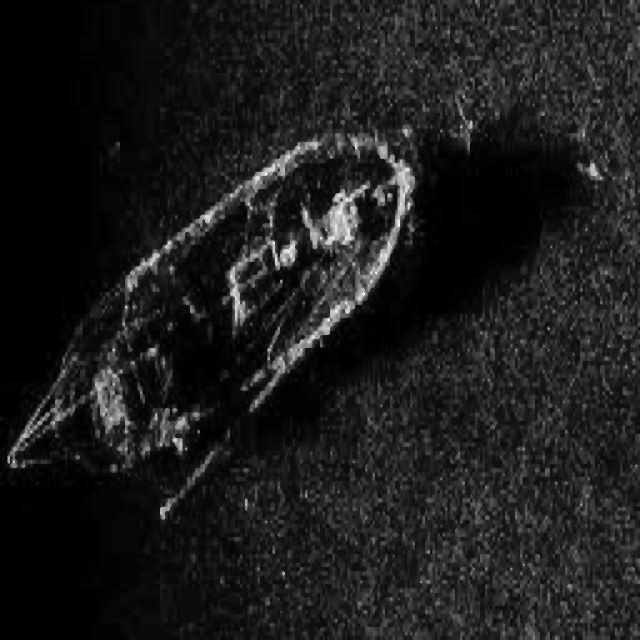Ship: (3, 107, 422, 541)
